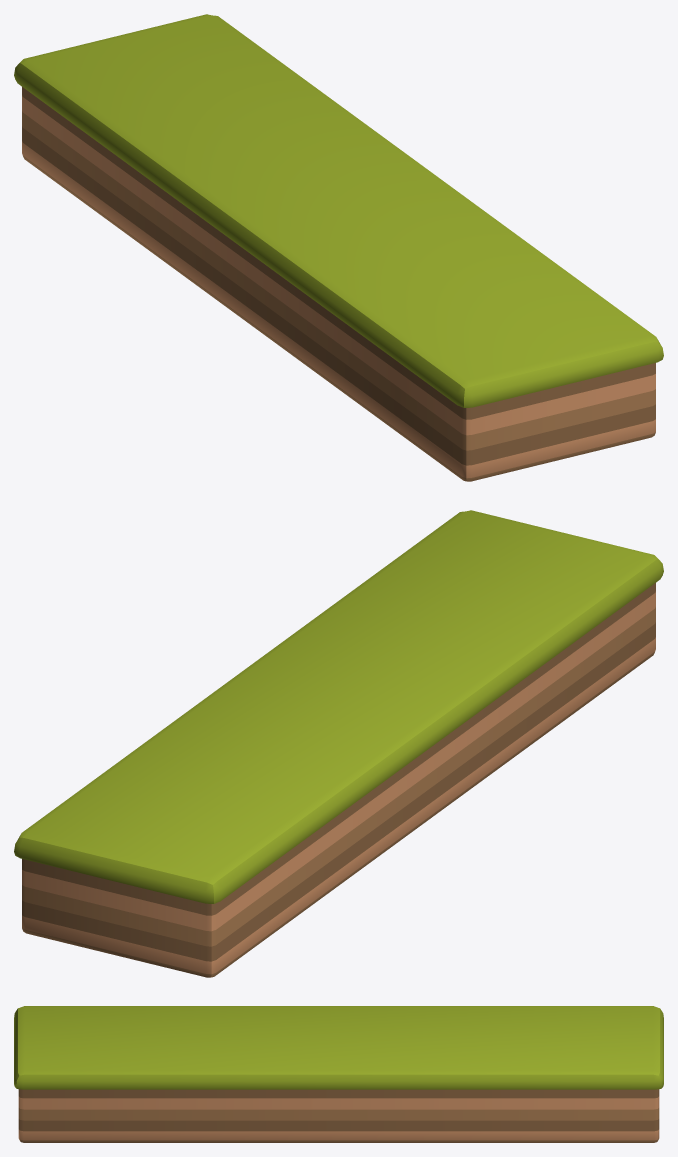
File: Ground_Obstacle_Short.fbx
The picture shows the model from 3 angles, top to bottom: view 1: azimuth 30°, elevation 25°; view 2: azimuth 150°, elevation 25°; view 3: azimuth 270°, elevation 25°; orthographic projection. The views are drawn at different scales.
Parts seen in each view (by area): view 1: Cube_Grass_Single; view 2: Cube_Grass_Single; view 3: Cube_Grass_Single.
Part boxes in pixels (bbox=[...]): Cube_Grass_Single: bbox=[14, 14, 663, 481]; Cube_Grass_Single: bbox=[14, 510, 663, 977]; Cube_Grass_Single: bbox=[14, 1006, 663, 1142].
Size of the model in its own units: 423 by 200 by 1623.
